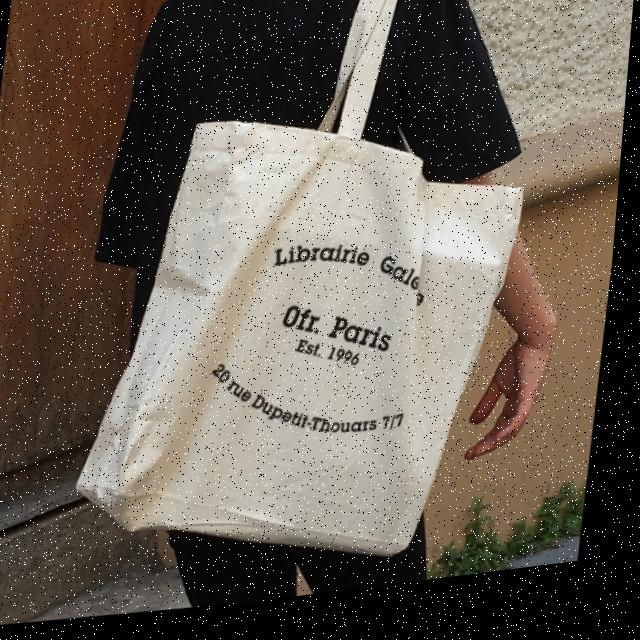ecobag: (83, 0, 575, 603)
